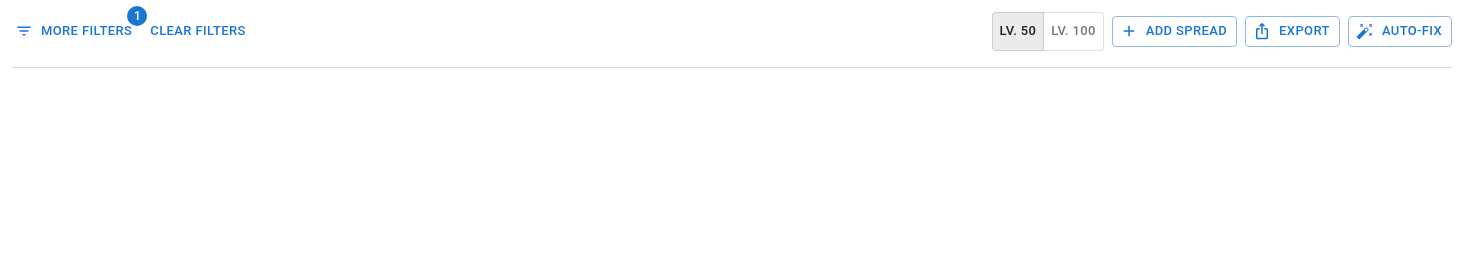
Test: Spread filters › lists alternate forms in the species filter by their form names
The image size is (1464, 278).
Click the button "More Filters" at (75, 31), box [12, 16, 137, 47]
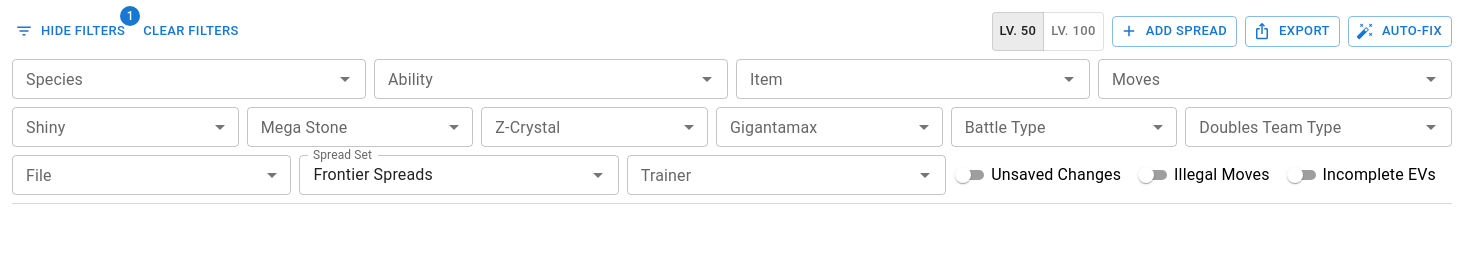
Click the dropdown labelled "Species" at (172, 79), box [18, 65, 327, 93]
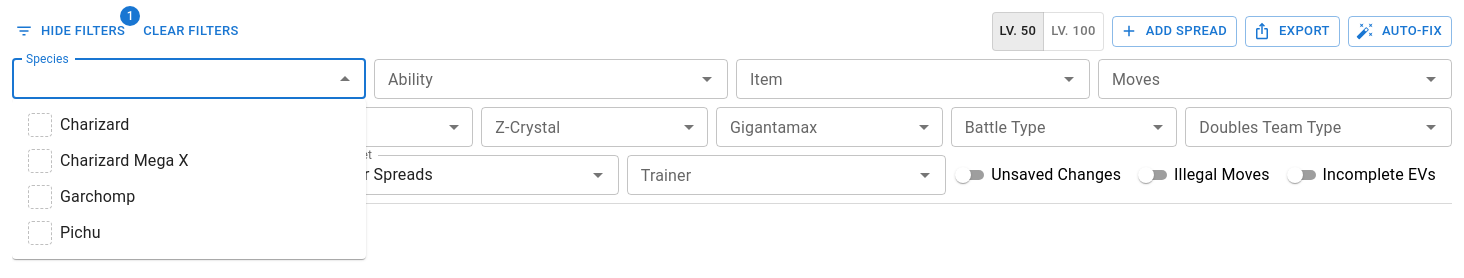
Expected: the option "Charizard" is shown, [28, 113, 130, 137]
Expected: the option "Charizard Mega X" is shown, [28, 149, 189, 173]
